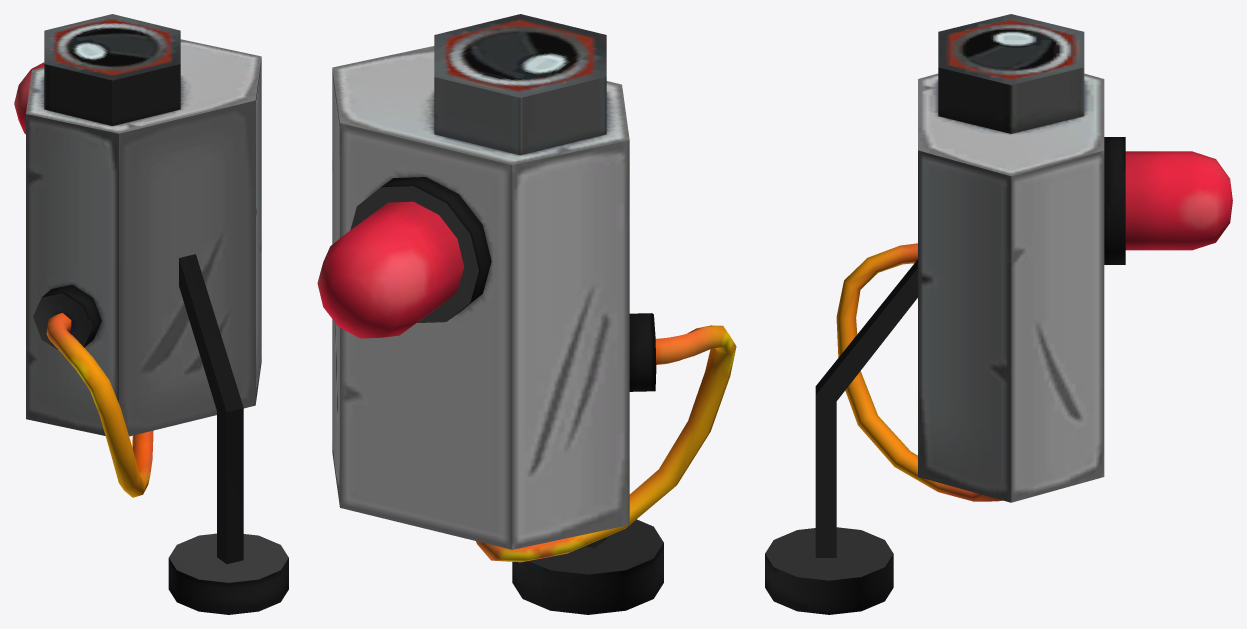
Rendered from SecurityCameras.fbx.
3 views of the same model, side by side, from view 1: azimuth 30°, elevation 25°; view 2: azimuth 150°, elevation 25°; view 3: azimuth 270°, elevation 25° (orthographic). The views are drawn at different scales.
Parts seen in each view (by area): view 1: Camera, CameraStand; view 2: Camera, CameraStand; view 3: Camera, CameraStand.
Boxes of the visible parts, box(x1,y1,x2,y2) form: Camera: box(14, 14, 261, 497); CameraStand: box(168, 254, 288, 614); Camera: box(317, 14, 736, 562); CameraStand: box(512, 519, 663, 614); Camera: box(836, 14, 1232, 502); CameraStand: box(765, 259, 917, 614).
Bounding box in the file's own units: 55.26 × 102 × 83.27.
